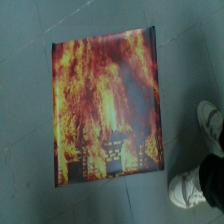fire-poster: (52, 27, 164, 186)
